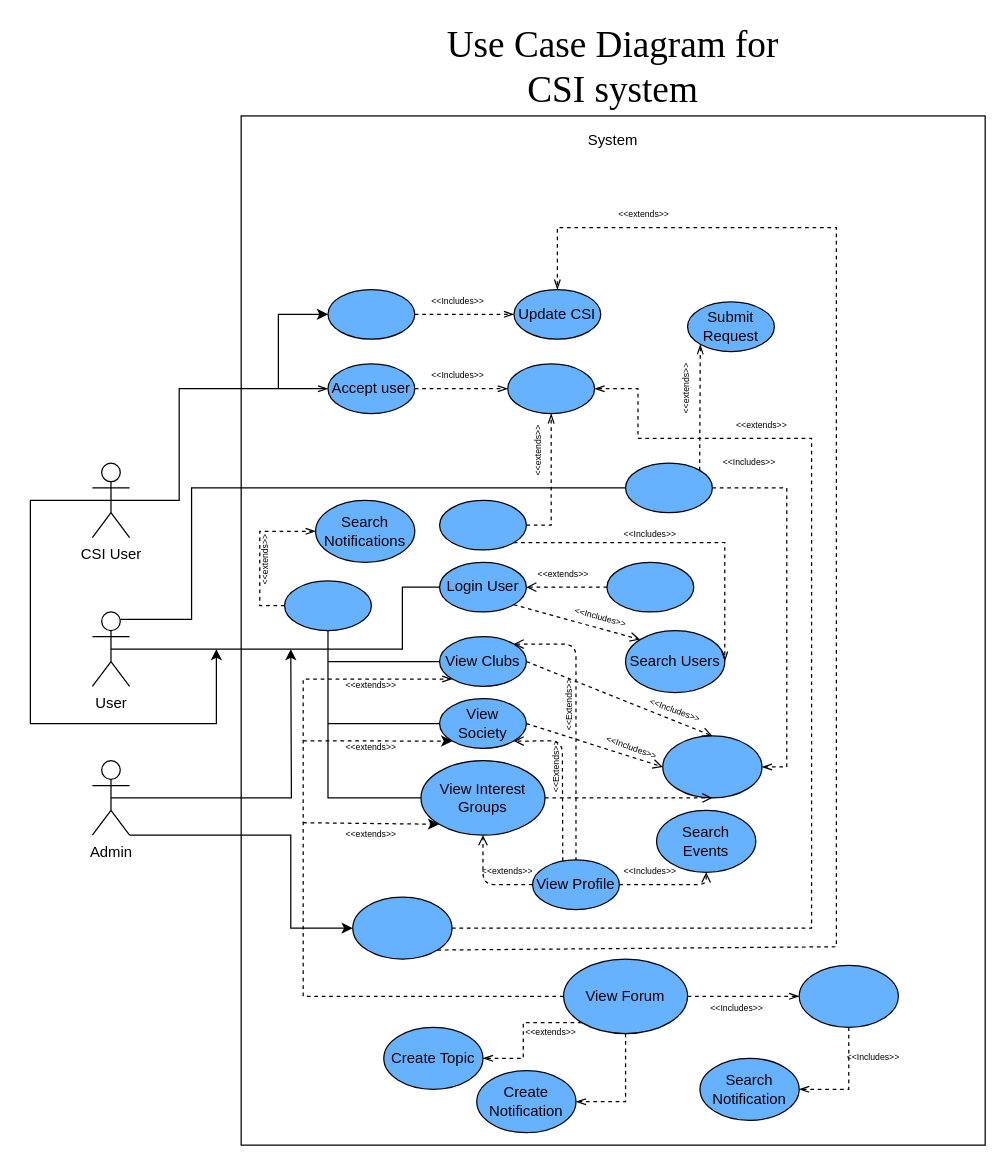
The diagram is 1007 pixels wide and 1167 high, and some of its shapes have lost their labels. Each missing label, with the centre of its shape:
"Create Request" goes at (668,487).
"Edit CSI" goes at (371,313).
"Invalid Login" goes at (650,586).
"Register User" goes at (482,524).
"Review CSI" goes at (402,927).
"S earch CSI" goes at (712,766).
"Search Topic" goes at (848,995).
"Update User" goes at (551,388).
"View Notification Feed" goes at (327,605).
